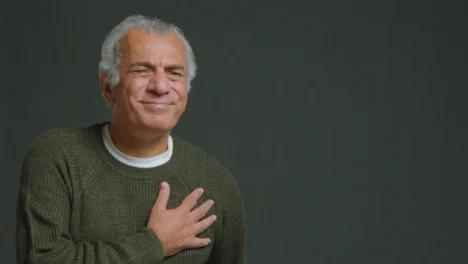pain: (118, 54, 191, 85)
